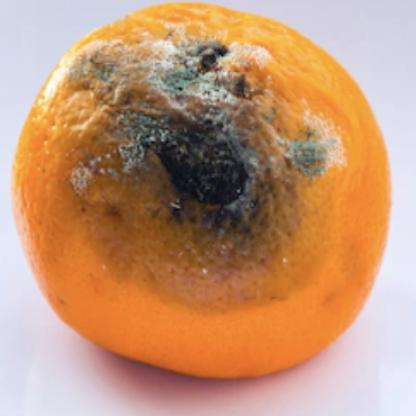rotten: (9, 7, 393, 376)
